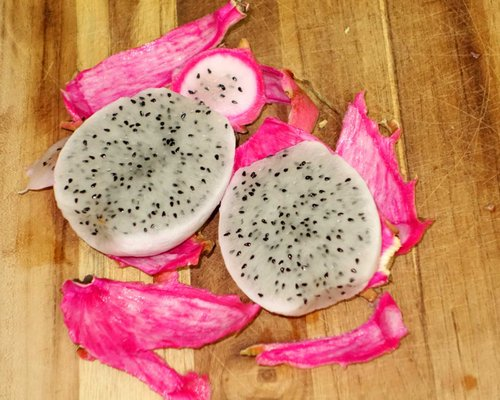pasta: (52, 88, 235, 258)
